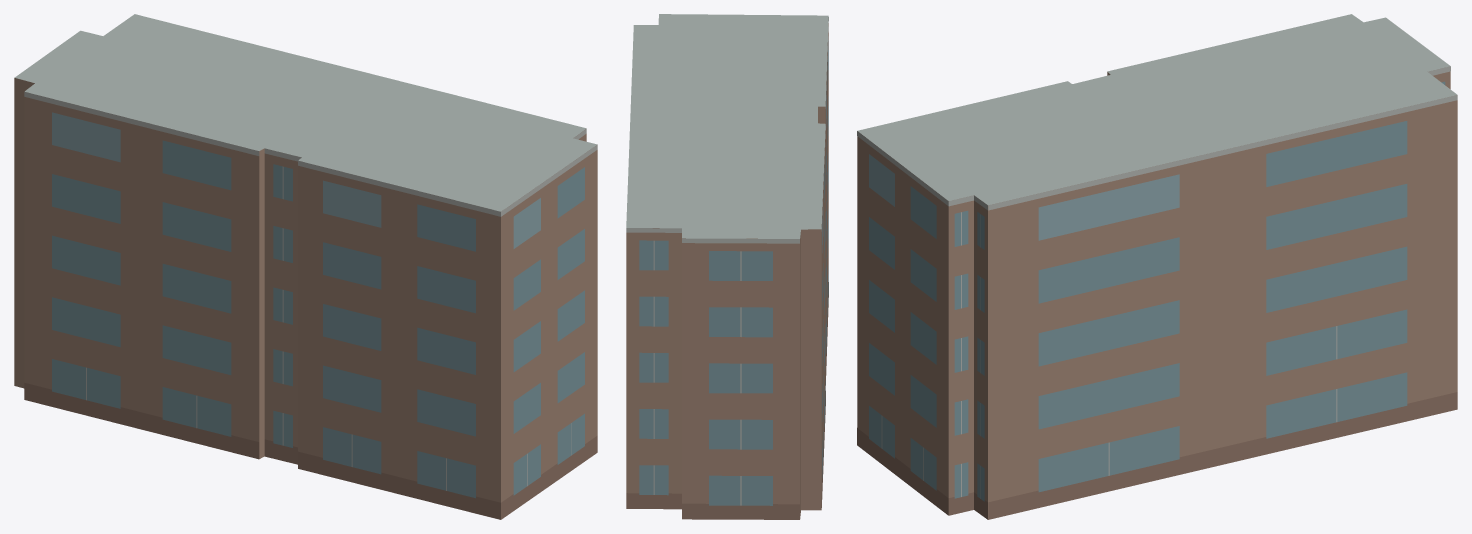
File: survey-upis-32936084.glb
The picture shows the model from 3 angles, left to right: view 1: azimuth 30°, elevation 25°; view 2: azimuth 150°, elevation 25°; view 3: azimuth 270°, elevation 25°; orthographic projection. The views are drawn at different scales.
Visible parts, largest first — view 1: survey-upis-32936084.tmp; view 2: survey-upis-32936084.tmp; view 3: survey-upis-32936084.tmp.
Part boxes in pixels (bbox=[...]): survey-upis-32936084.tmp: bbox=[14, 14, 597, 519]; survey-upis-32936084.tmp: bbox=[626, 14, 828, 519]; survey-upis-32936084.tmp: bbox=[857, 14, 1457, 519].
Bounding box in the file's own units: 19.26 × 14.75 × 25.53.
